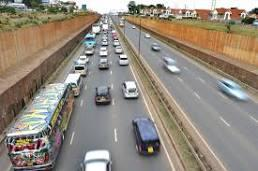bus: (7, 83, 73, 170), (84, 33, 96, 48)
car: (132, 118, 160, 154), (84, 152, 111, 171), (65, 74, 80, 96), (122, 81, 138, 98), (96, 87, 110, 104), (98, 58, 109, 69), (75, 65, 86, 75), (119, 55, 127, 65), (99, 47, 107, 56), (115, 46, 122, 53), (114, 40, 120, 47)
